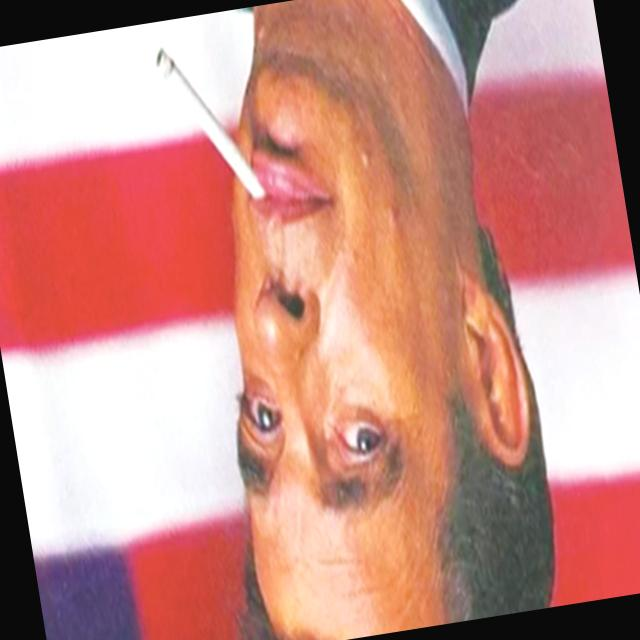smoke: (137, 12, 290, 230)
